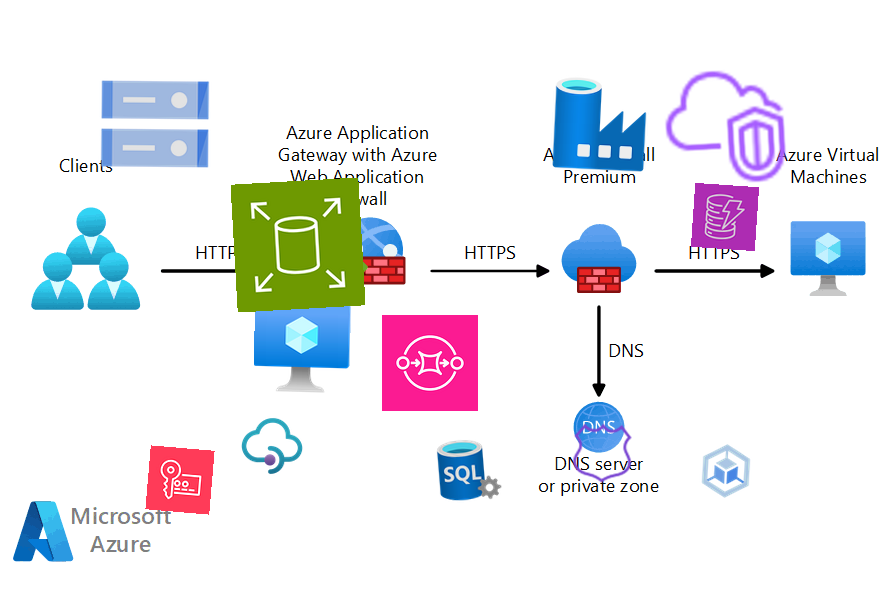aws_amazon_dynamodb: (690, 182, 760, 252)
aws_amazon_elastic_block_store: (230, 177, 366, 313)
aws_amazon_simple_queue_service: (381, 314, 479, 412)
aws_key_management_service: (145, 445, 215, 515)
aws_route_53_hosted_zone: (569, 419, 637, 487)
aws_vpc_virtual_private_cloud_vpc: (657, 59, 793, 195)
azure_api_management_services: (239, 413, 305, 479)
azure_data_factories: (549, 73, 651, 175)
azure_sql_server: (434, 435, 504, 505)
azure_virtual_machine: (252, 300, 352, 400)
gcp_cloud_storage: (90, 59, 220, 189)
gcp_google_kubernetes_engine: (692, 437, 760, 505)
